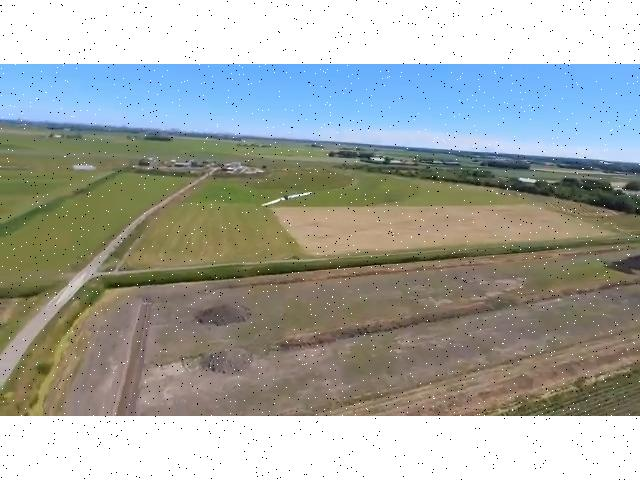Anti-Drone: (248, 179, 332, 218)
